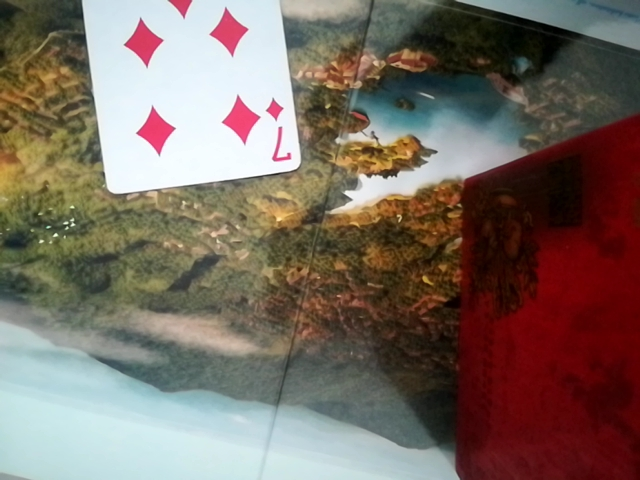fk 7: (74, 0, 296, 197)
